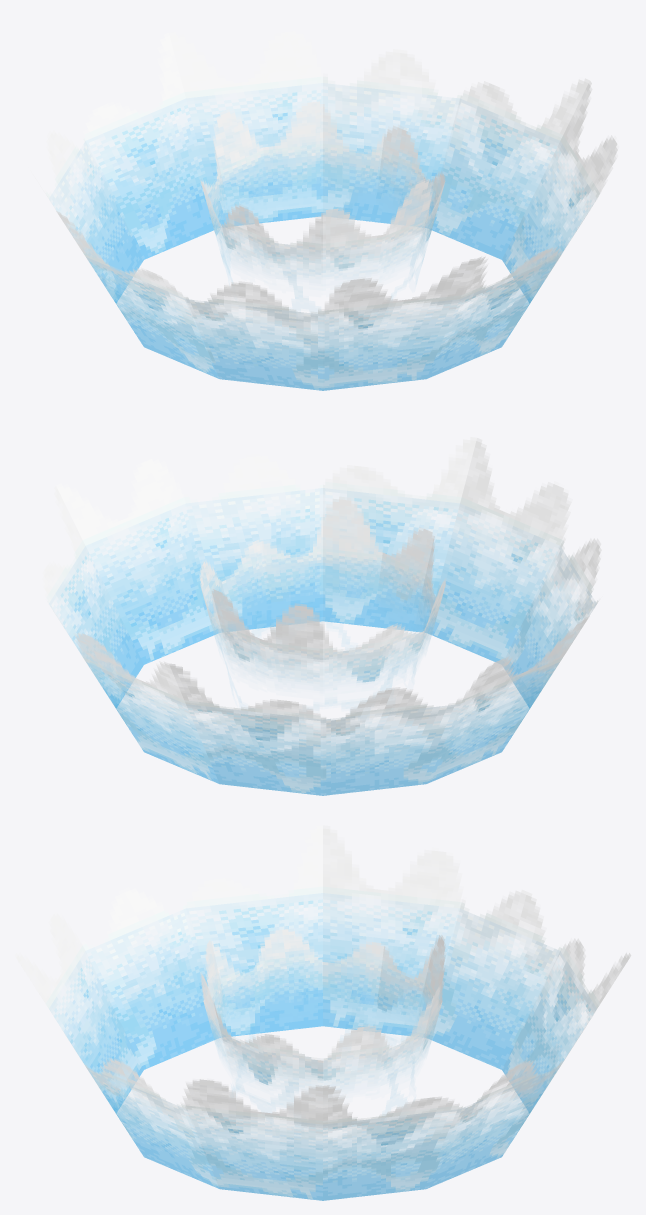
The model's file is desert_course-water_efct.glb.
3 views of the same model, one above another, from view 1: azimuth 30°, elevation 25°; view 2: azimuth 150°, elevation 25°; view 3: azimuth 270°, elevation 25° (orthographic).
Visible parts, largest first — view 1: water_efct; view 2: water_efct; view 3: water_efct.
Boxes of the visible parts, left/top/right/bottom form: water_efct: left=35, top=31, right=617, bottom=390; water_efct: left=42, top=437, right=601, bottom=795; water_efct: left=15, top=825, right=630, bottom=1200.
Bounding box in the file's own units: 1.76 × 0.5 × 1.76.
2 materials, 2 textured.
